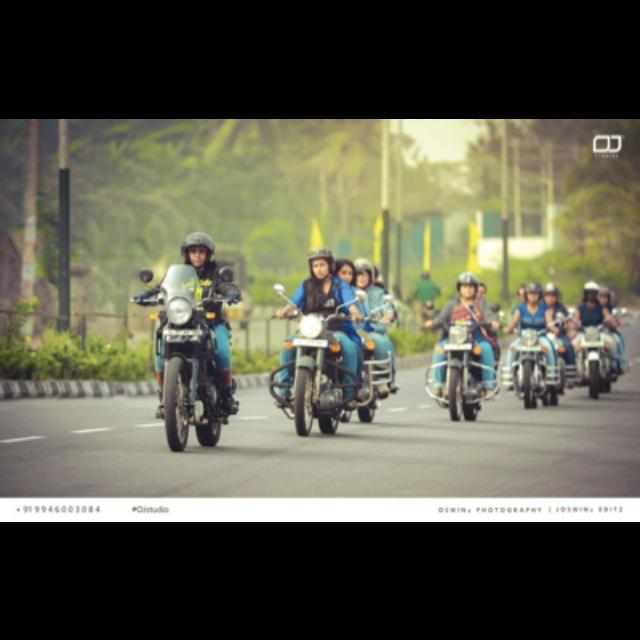With Helmet: (177, 228, 219, 268), (302, 242, 338, 286), (456, 264, 484, 304), (522, 277, 546, 307)
